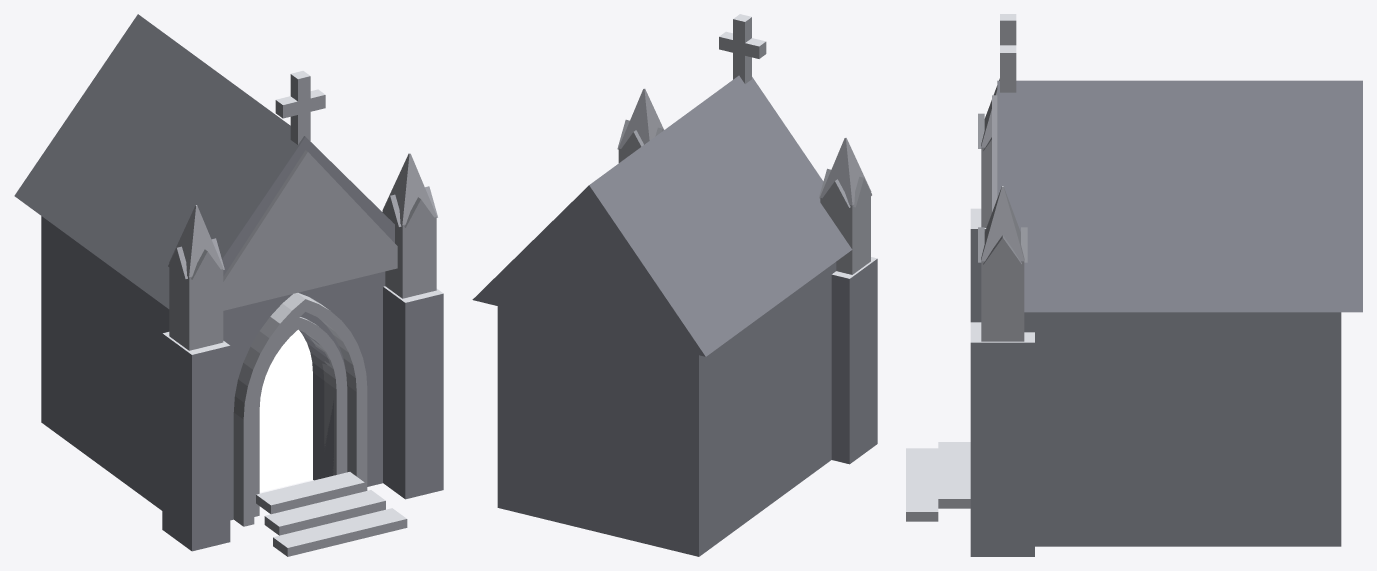
Rendered from AR_Santuario.fbx.
3 renders of one model, left to right at view 1: azimuth 30°, elevation 25°; view 2: azimuth 150°, elevation 25°; view 3: azimuth 270°, elevation 25°, orthographic. The views are drawn at different scales.
Parts seen in each view (by area): view 1: AR_Santuario; view 2: AR_Santuario; view 3: AR_Santuario.
Part boxes in pixels (x1,y1,x2,y2): AR_Santuario: (14, 14, 443, 556); AR_Santuario: (472, 14, 877, 556); AR_Santuario: (906, 14, 1362, 556).
Bounding box in the file's own units: 5.92 × 9.7 × 8.5.
